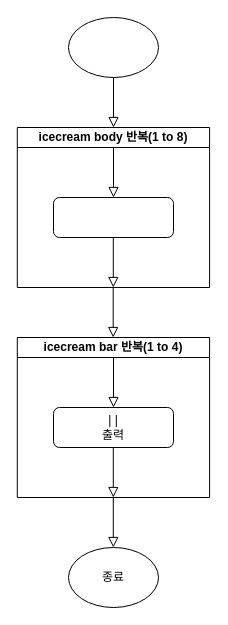
Image size: 228x625. Some labels were removed from this diagram. The centre of each missing label's shape, as x and y in pixels:
*********** 출력: pixel 113 217
시작: pixel 113 47
